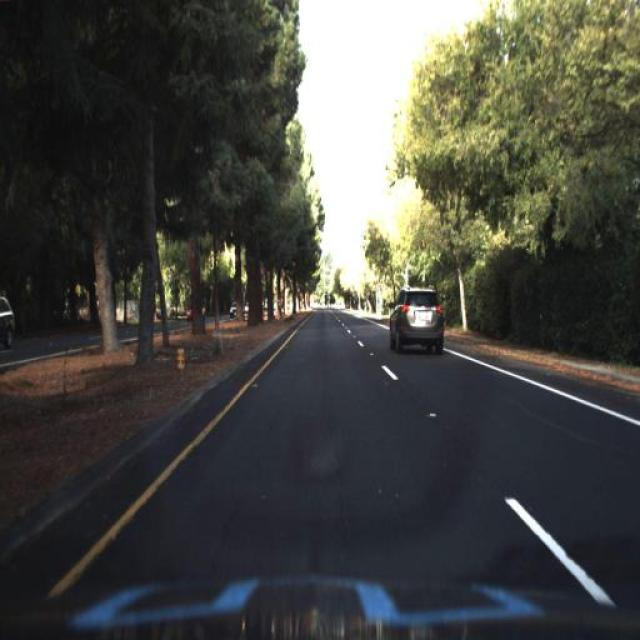car: (388, 286, 444, 355), (1, 293, 16, 345), (226, 296, 239, 324)
